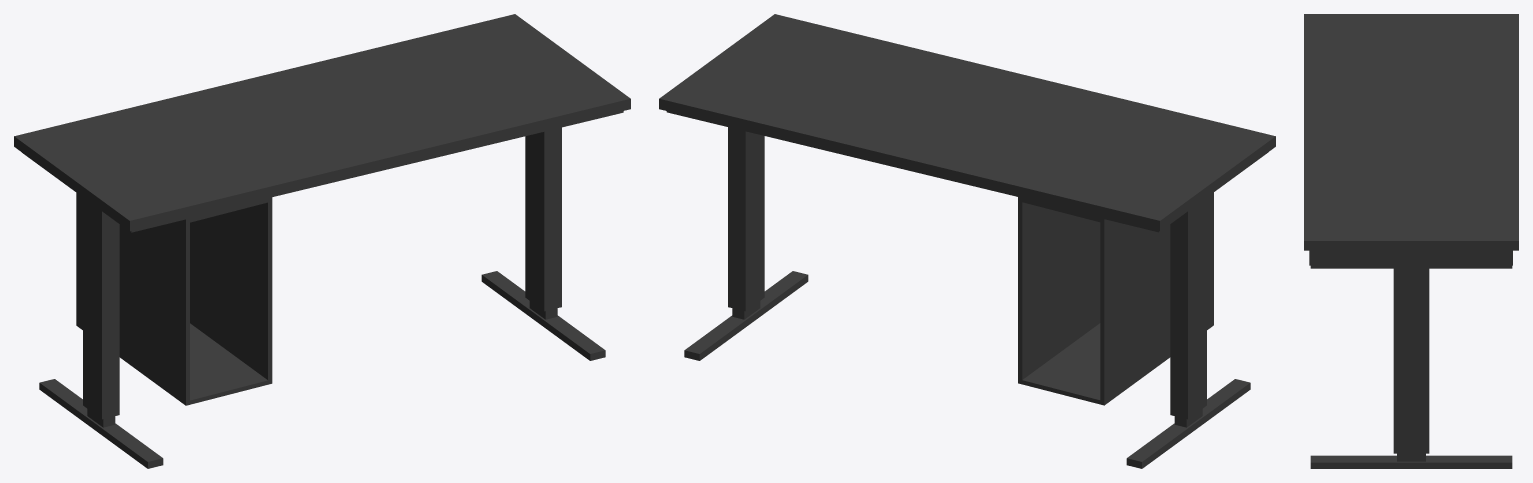
Rendered from DeskV2Dark.fbx.
The picture shows the model from 3 angles, left to right: view 1: azimuth 30°, elevation 25°; view 2: azimuth 150°, elevation 25°; view 3: azimuth 270°, elevation 25°; orthographic projection. The views are drawn at different scales.
Parts seen in each view (by area): view 1: DeskV2Dark; view 2: DeskV2Dark; view 3: DeskV2Dark.
Part boxes in pixels (left/top/right/bottom): DeskV2Dark: left=14, top=14, right=630, bottom=468; DeskV2Dark: left=659, top=14, right=1275, bottom=468; DeskV2Dark: left=1304, top=14, right=1518, bottom=468.
Size of the model in its own units: 160 by 78.11 by 64.
